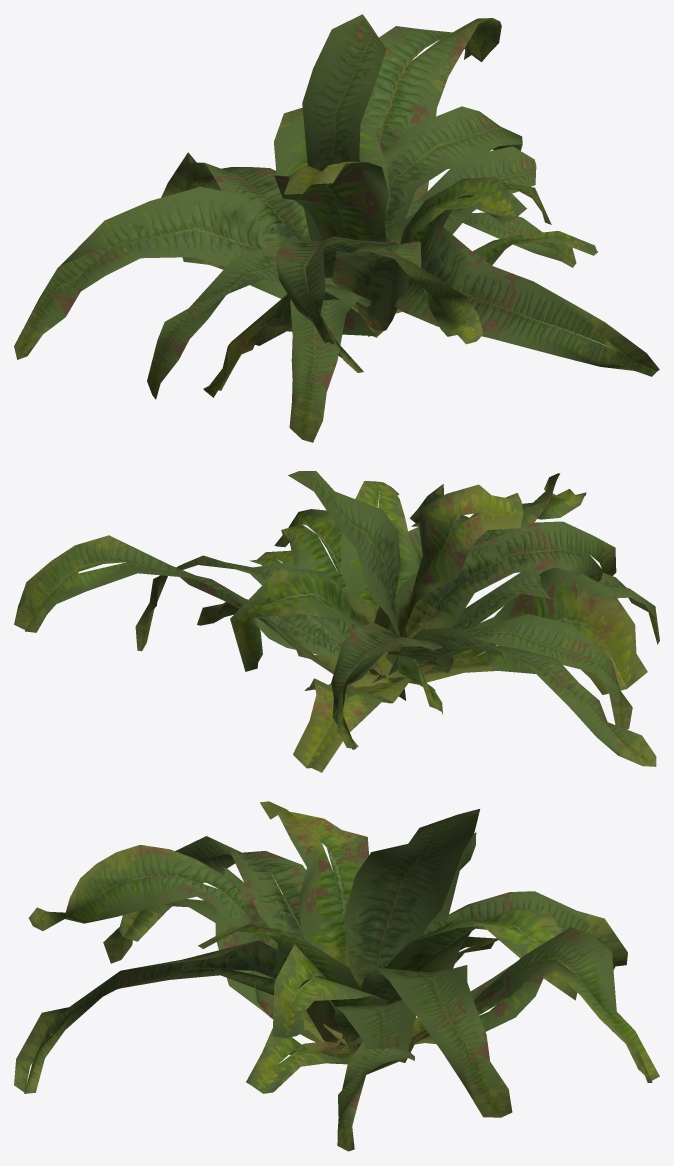
File: fern.glb
3 views of the same model, one above another, from view 1: azimuth 30°, elevation 25°; view 2: azimuth 150°, elevation 25°; view 3: azimuth 270°, elevation 25° (orthographic). The views are drawn at different scales.
Visible parts, largest first — view 1: fern; view 2: fern; view 3: fern.
Boxes of the visible parts, x1,y1,x2,y2 form: fern: [14, 14, 659, 442]; fern: [14, 471, 659, 772]; fern: [14, 801, 659, 1151].
Bounding box in the file's own units: 0.9897 × 0.4261 × 0.895.
1 material, 1 textured.
